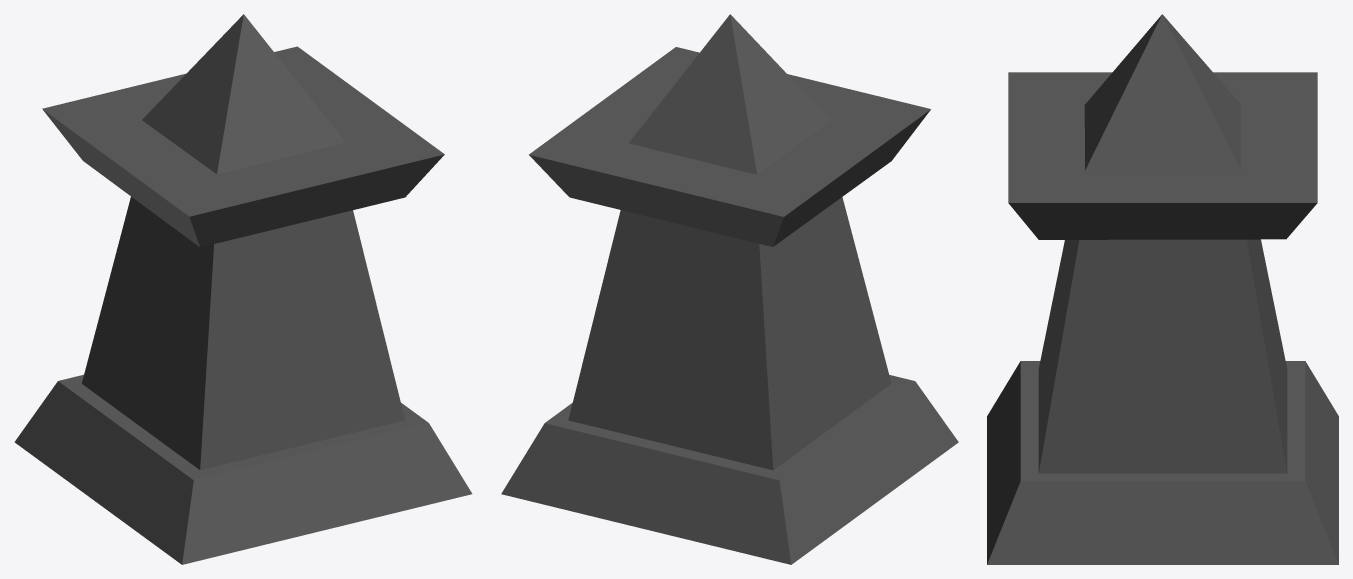
The model's file is lamb.fbx.
3 renders of one model, left to right at view 1: azimuth 30°, elevation 25°; view 2: azimuth 150°, elevation 25°; view 3: azimuth 270°, elevation 25°, orthographic. The views are drawn at different scales.
Parts seen in each view (by area): view 1: node_id4; view 2: node_id4; view 3: node_id4.
Boxes of the visible parts, x1,y1,x2,y2 form: node_id4: (14,14,472,564); node_id4: (501,14,958,564); node_id4: (987,14,1338,564).
Size of the model in its own units: 0.3425 by 0.512 by 0.3425.
1 material, 1 textured.
